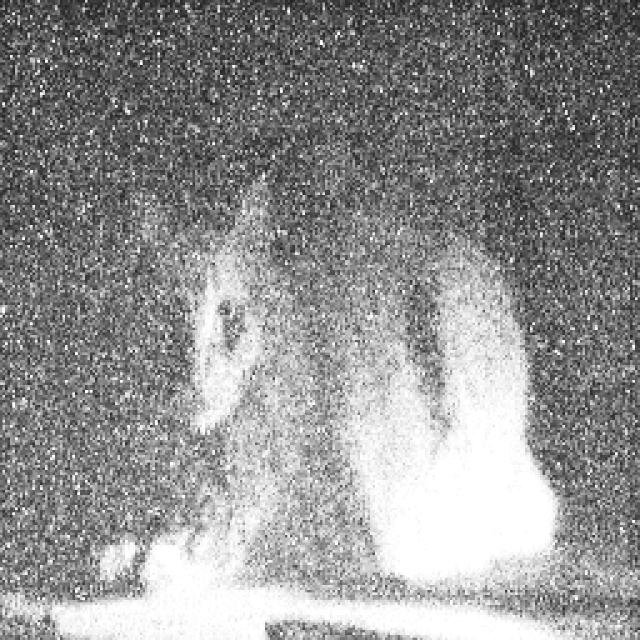cat: (101, 173, 560, 602)
